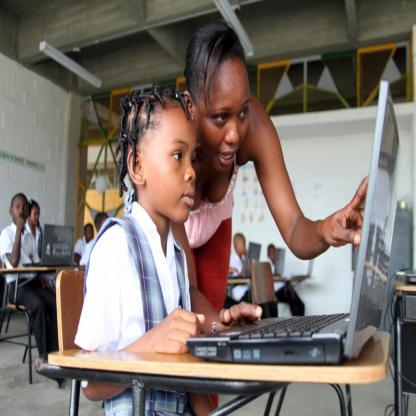board: (186, 79, 404, 364), (21, 226, 73, 265), (228, 242, 260, 279), (272, 250, 284, 274)
